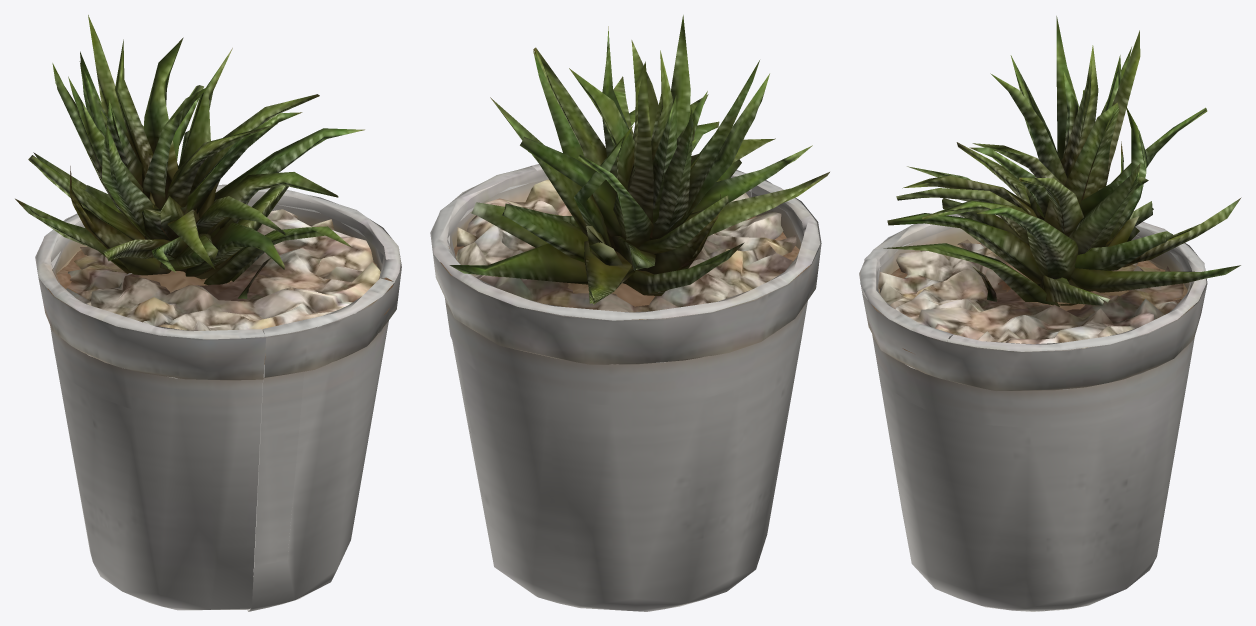
File: small_plant.glb
3 views of the same model, side by side, from view 1: azimuth 30°, elevation 25°; view 2: azimuth 150°, elevation 25°; view 3: azimuth 270°, elevation 25° (orthographic). The views are drawn at different scales.
Visible parts, largest first — view 1: small_plant; view 2: small_plant; view 3: small_plant.
Part boxes in pixels (x1,y1,x2,y2): small_plant: (15, 15, 401, 611); small_plant: (430, 15, 829, 611); small_plant: (859, 16, 1241, 611).
Bounding box in the file's own units: 0.168 × 0.2676 × 0.1846.
Materials: 1 (1 with a texture image).
